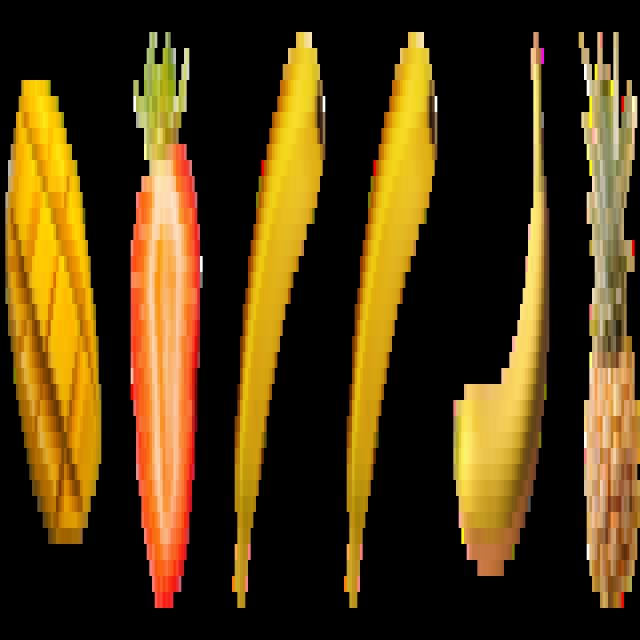bananas: (453, 13, 555, 618), (340, 29, 437, 619), (232, 16, 326, 618)
mango: (1, 6, 107, 622)
pineapples: (578, 13, 640, 632)
strawberry: (124, 16, 208, 631)
